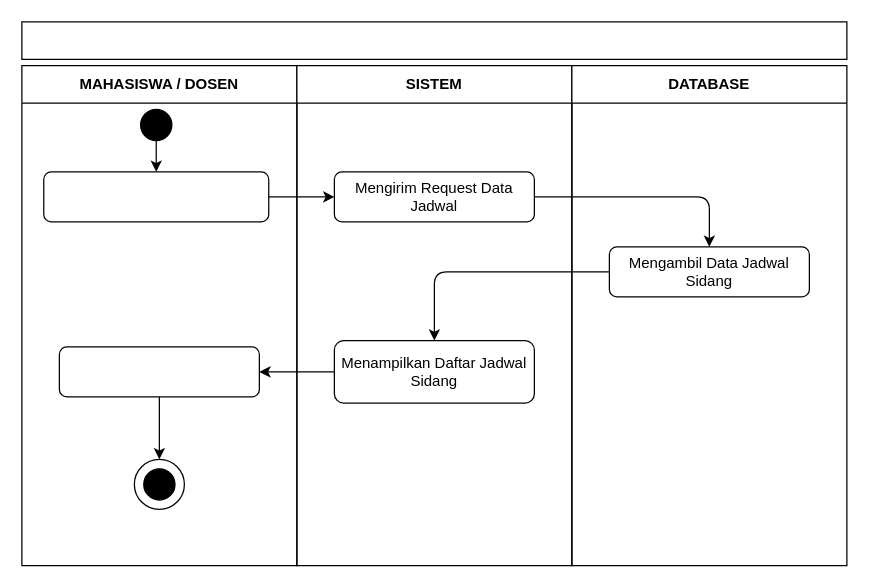
Some shapes in this 869 by 588 pixel diagram are drawn without their labels. Here are the shapes that lost their labels. From the top down, the centre of each, then its label:
[434,40]: LIHAT JADWAL SIDANG
[155,196]: Mengakses Menu Jadwal Sidang
[158,371]: Melihat Informasi Jadwal
